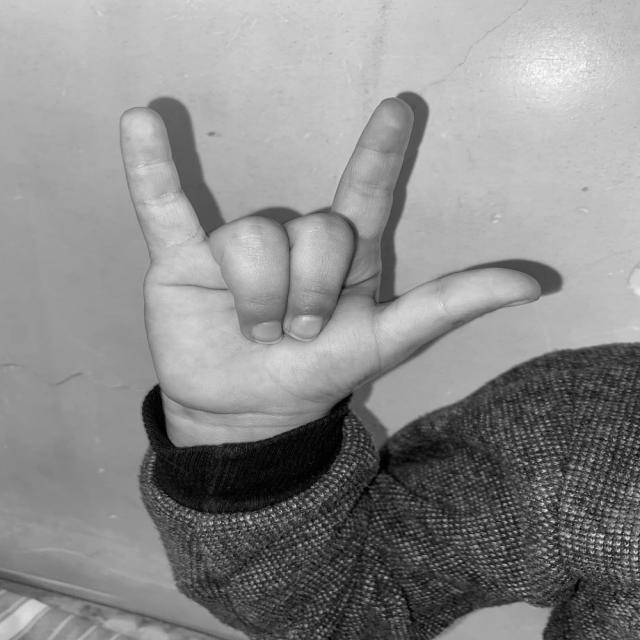i love you: (109, 85, 548, 432)
